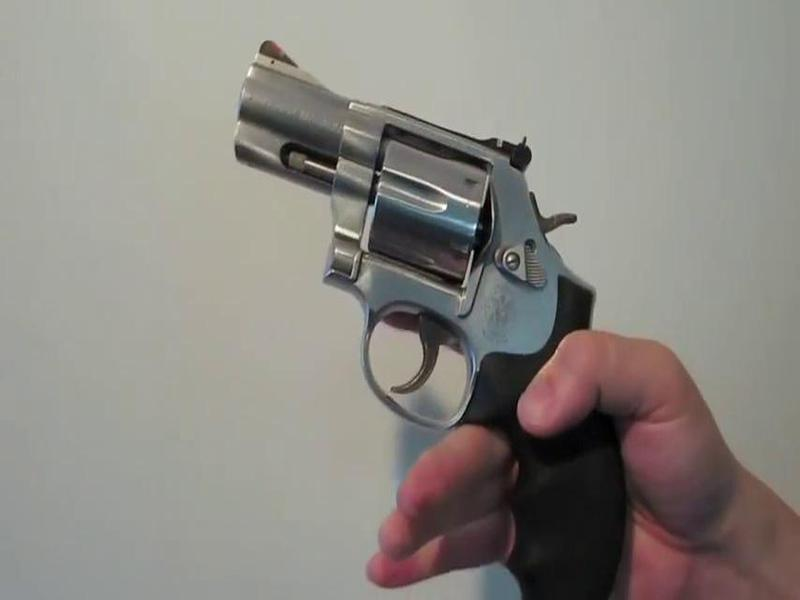Revolver: (151, 42, 666, 600)
